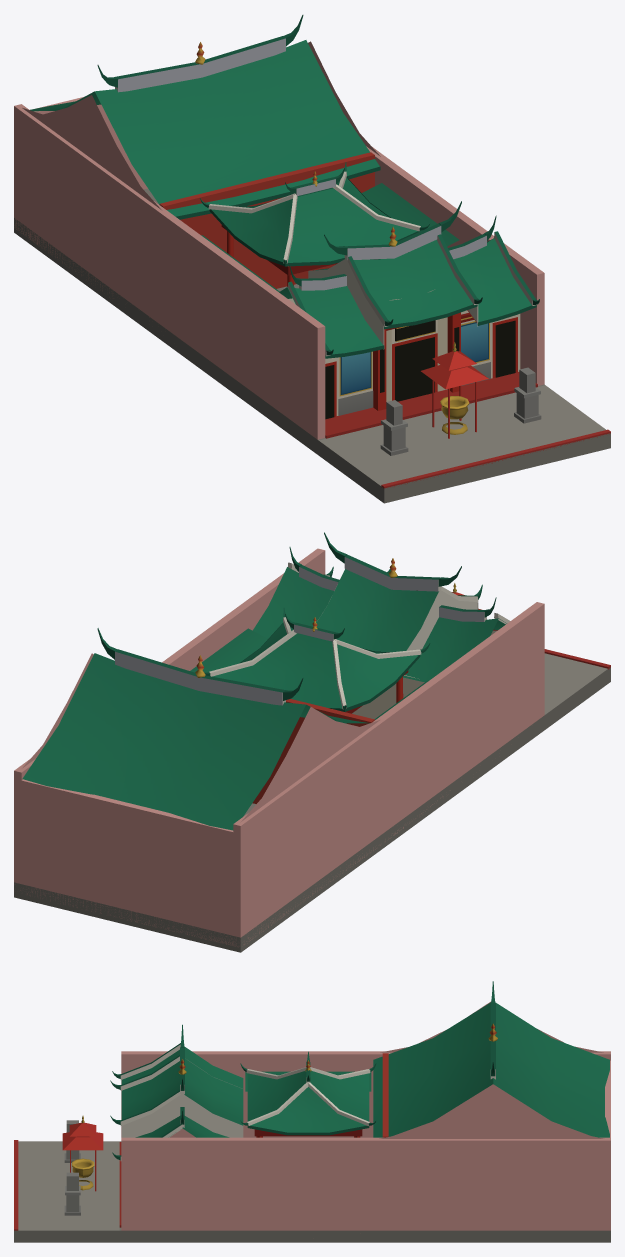
The picture shows the model from 3 angles, top to bottom: view 1: azimuth 30°, elevation 25°; view 2: azimuth 150°, elevation 25°; view 3: azimuth 270°, elevation 25°; orthographic projection. The views are drawn at different scales.
Parts seen in each view (by area): view 1: hiang-thian-siang-ti-temple-lod1; view 2: hiang-thian-siang-ti-temple-lod1; view 3: hiang-thian-siang-ti-temple-lod1.
Part boxes in pixels (x1,y1,x2,y2): hiang-thian-siang-ti-temple-lod1: (14, 15, 610, 503); hiang-thian-siang-ti-temple-lod1: (14, 532, 610, 952); hiang-thian-siang-ti-temple-lod1: (14, 981, 610, 1242).
Size of the model in its own units: 10.4 by 9.58 by 29.4.
